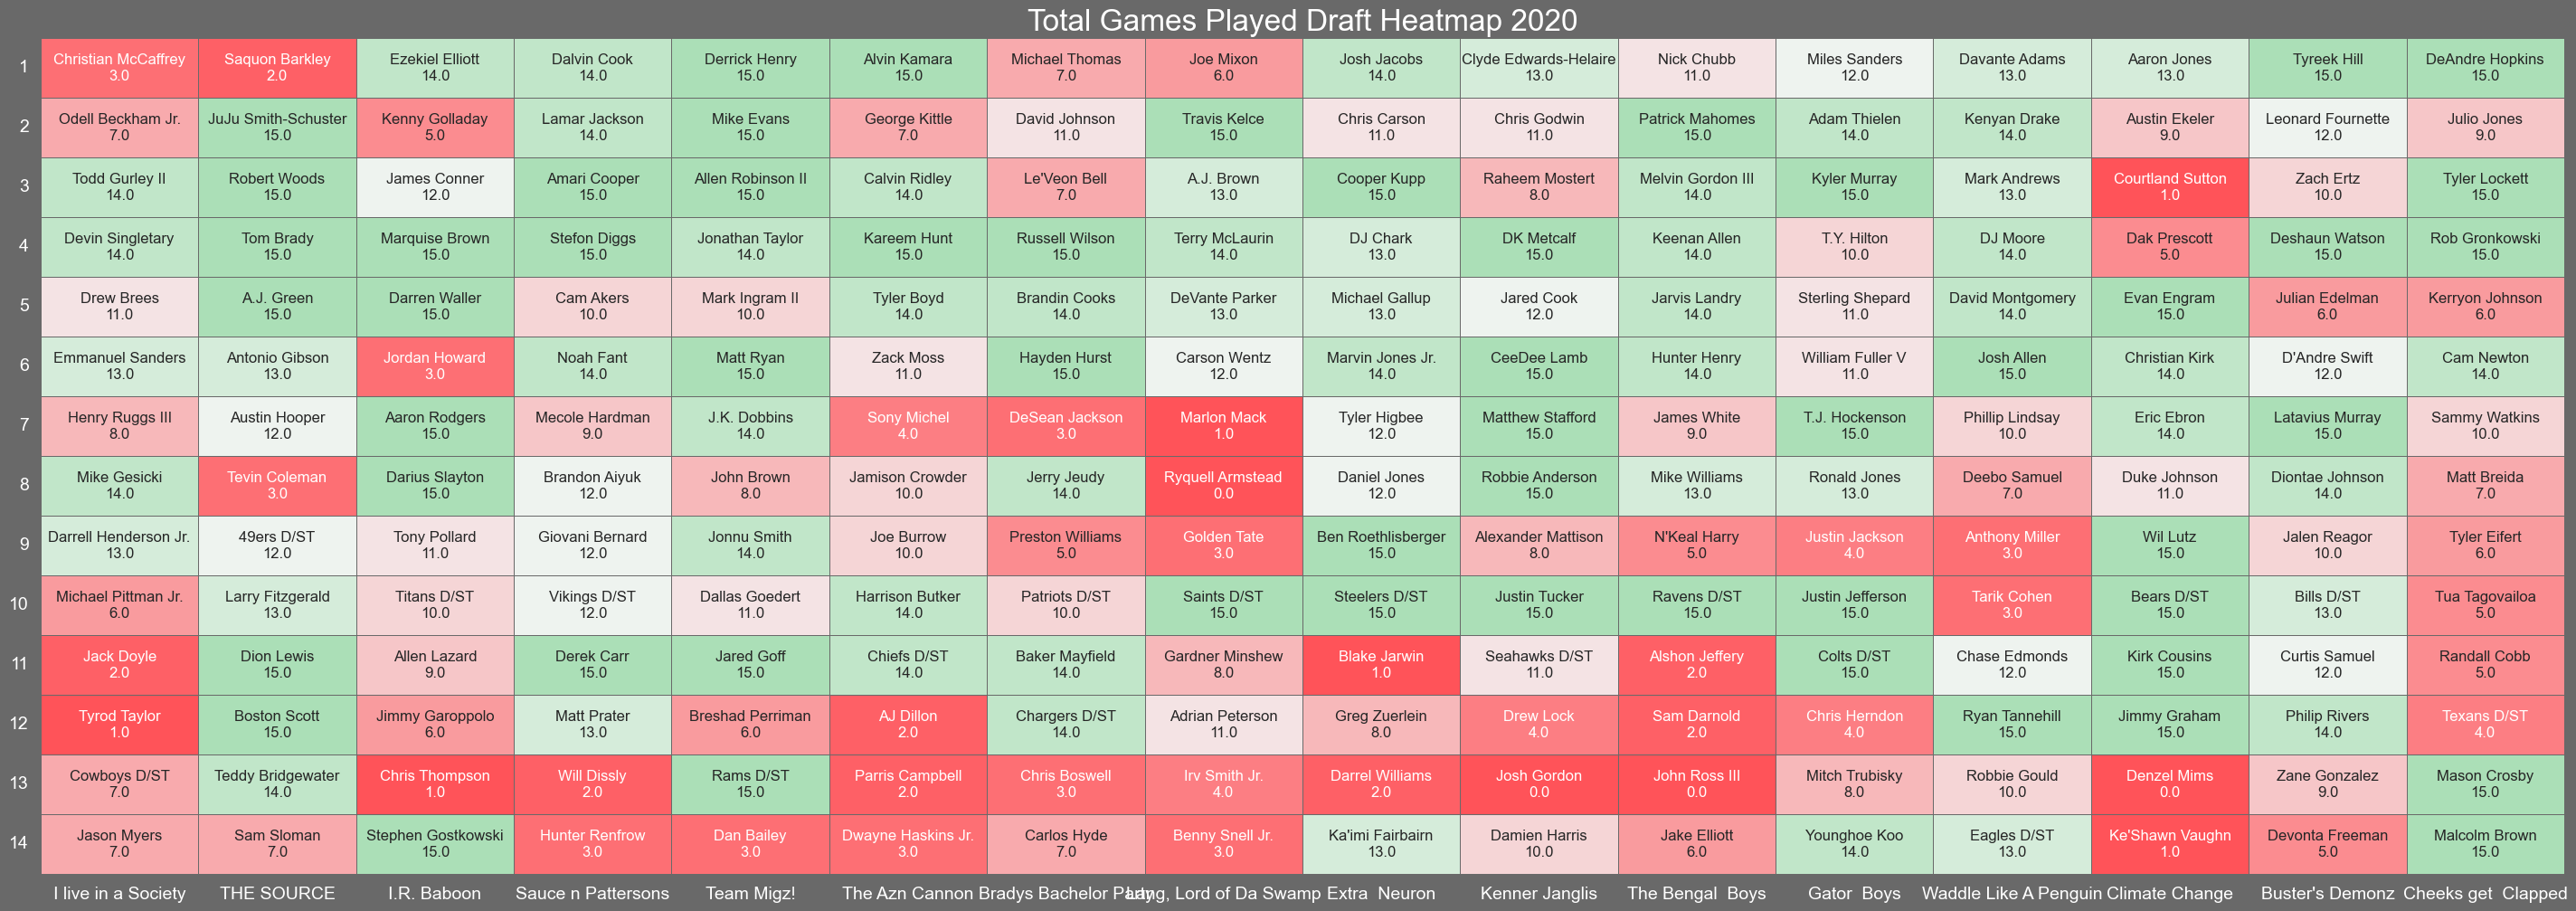

Layout of this report page (visuals, bound fields, positions):
{"tool":"powerbi","page":{"name":"Page 3","canvas":[1280,720],"ordinal":2},"visuals":[{"type":"pivotTable","fields":{"Rows":["Query1.round","Query1.playername"],"Columns":["Query1.pick"],"Values":["Sum(Query1.total)"]},"box":[0,0,1280,720],"z":1}]}

Visuals, with their boxes on the page's 1280x720 design canvas (x1, y1, x2, y2). These are canvas units, not pixel positions in the 2576x911 screenshot, which may show the page scaled, cropped or inside an application window:
pivotTable - Query1.round x Query1.playername: (0, 0, 1280, 720)
